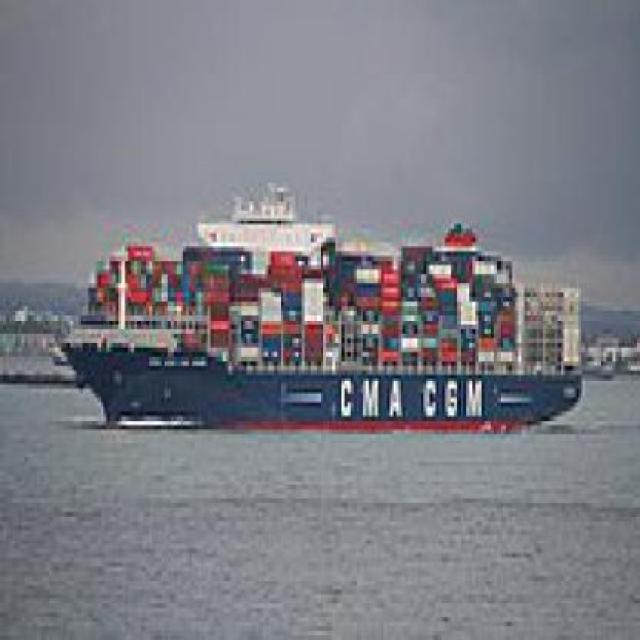container: (56, 156, 596, 449)
